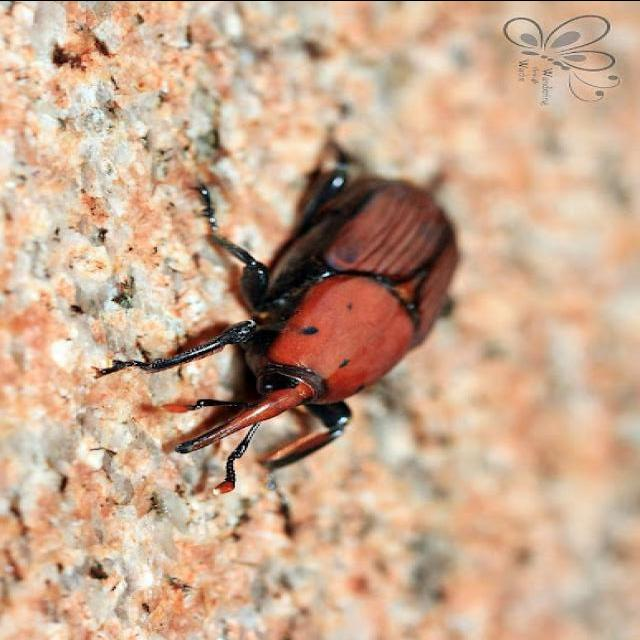Red-palm-weevil: (163, 171, 464, 495)
